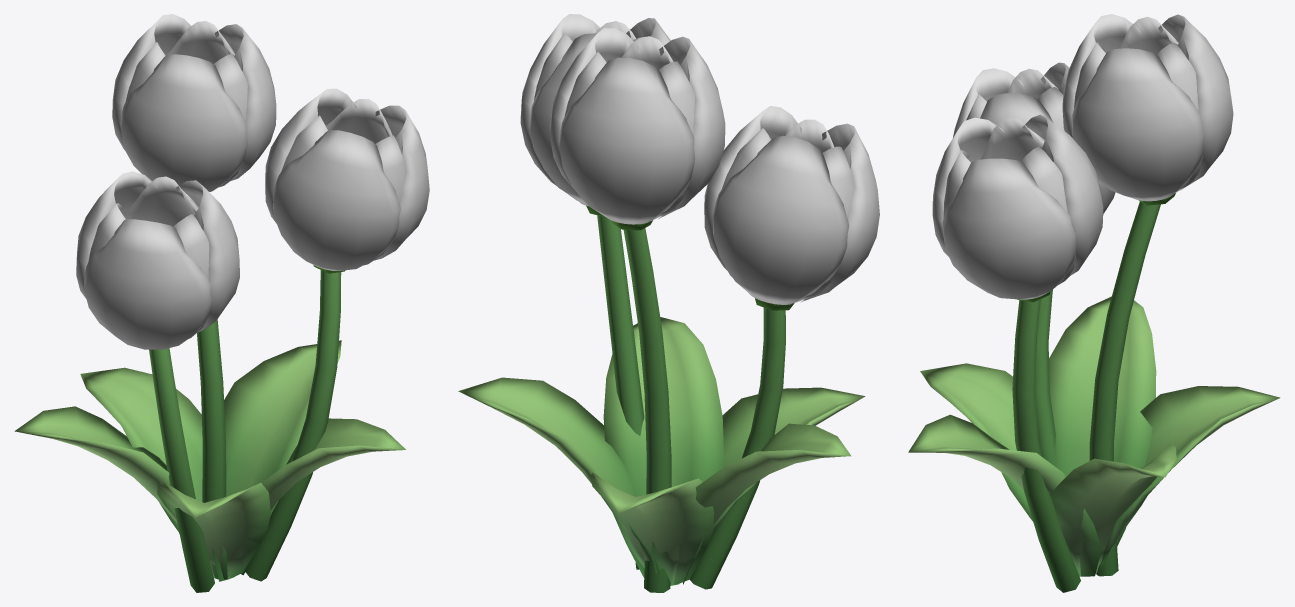
The model's file is flower_tulip.glb.
3 renders of one model, left to right at view 1: azimuth 30°, elevation 25°; view 2: azimuth 150°, elevation 25°; view 3: azimuth 270°, elevation 25°, orthographic. The views are drawn at different scales.
Visible parts, largest first — view 1: flower_tulip_top, flower_tulip; view 2: flower_tulip_top, flower_tulip; view 3: flower_tulip_top, flower_tulip.
Part boxes in pixels (x1,y1,x2,y2): flower_tulip_top: (76,14,429,349); flower_tulip: (14,265,405,592); flower_tulip_top: (520,14,879,304); flower_tulip: (458,205,865,592); flower_tulip_top: (932,14,1233,299); flower_tulip: (908,193,1280,592).
Size of the model in its own units: 0.361 by 0.5203 by 0.3177.
